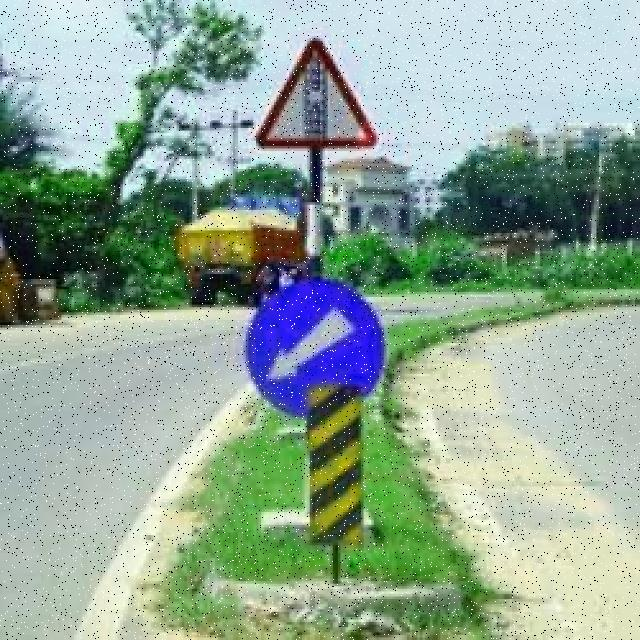compulsory_keep_left: (232, 274, 394, 383)
object_hazzard_to_left: (301, 375, 385, 562)
